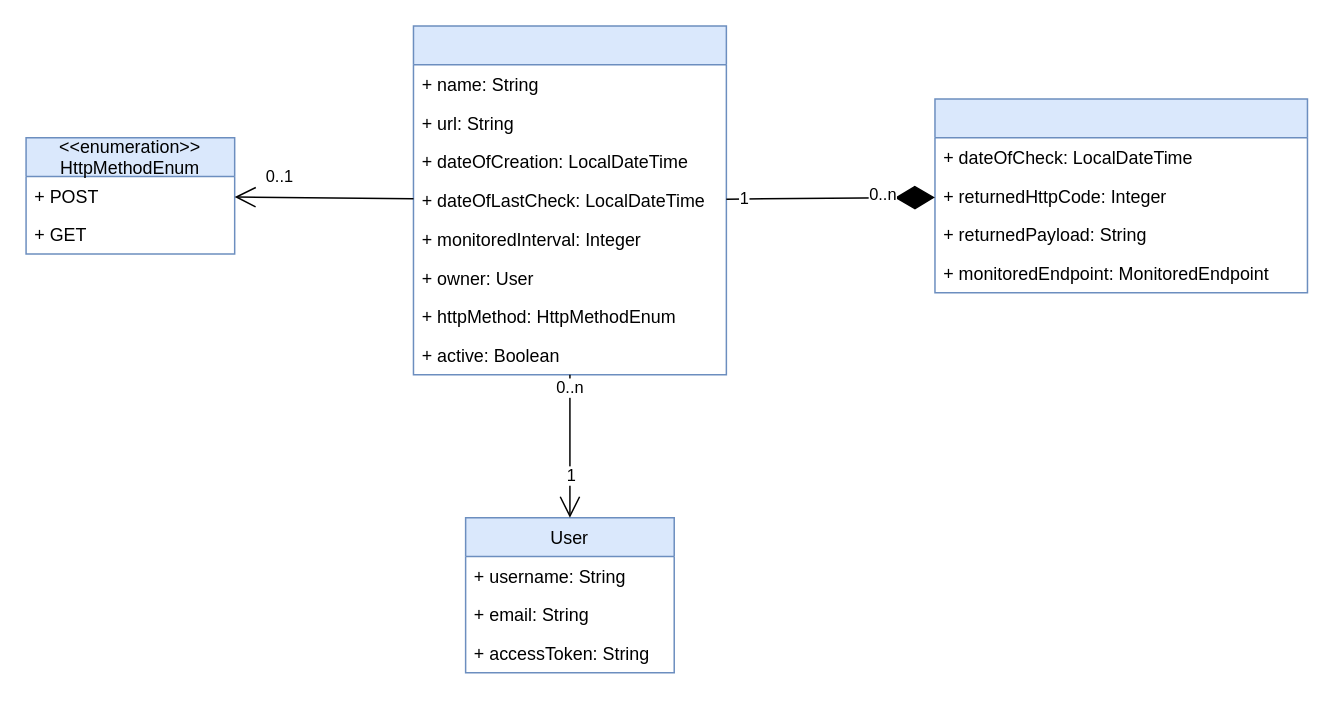
This 1334x703 diagram has some shape labels left out. The shapes that lost their labels are listed below. From the top down, each one's box as (x1, y1, x2, y2) in pixels, then its label:
(412, 25, 726, 375): MonitoredEndpoint
(933, 98, 1307, 293): MonitoringResult
